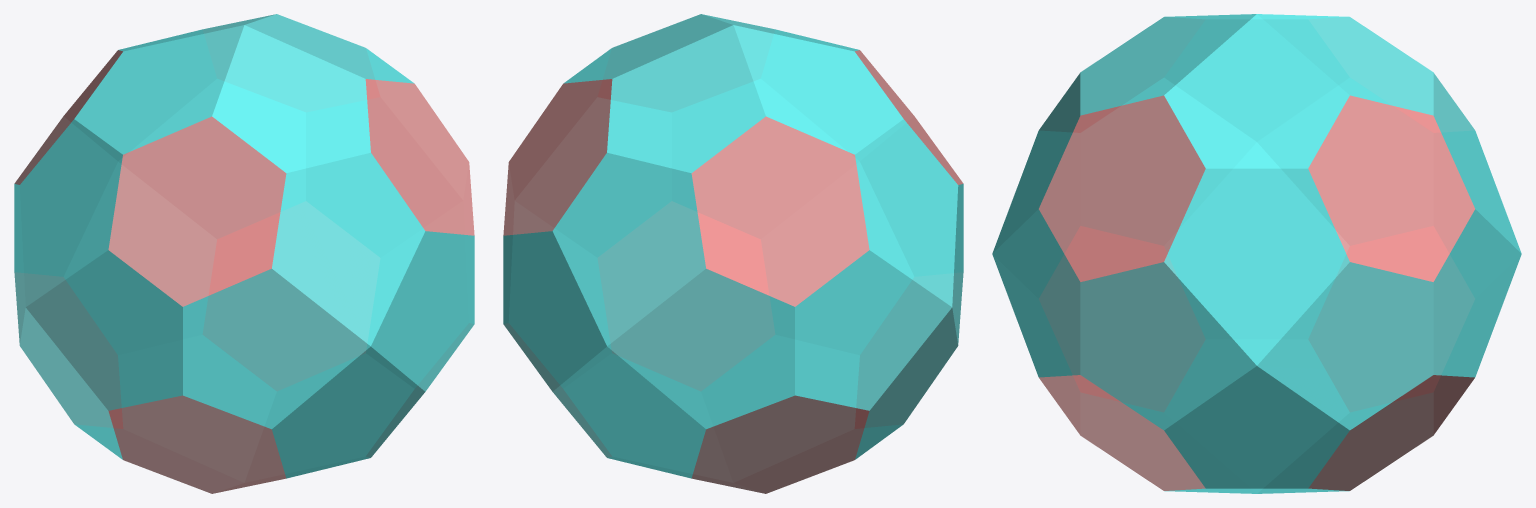
The model's file is TruncatedTetrakisHexahedron.obj.
3 views of the same model, side by side, from view 1: azimuth 30°, elevation 25°; view 2: azimuth 150°, elevation 25°; view 3: azimuth 270°, elevation 25° (orthographic). The views are drawn at different scales.
Bounding box in the file's own units: 5.17 × 5.17 × 5.17.
